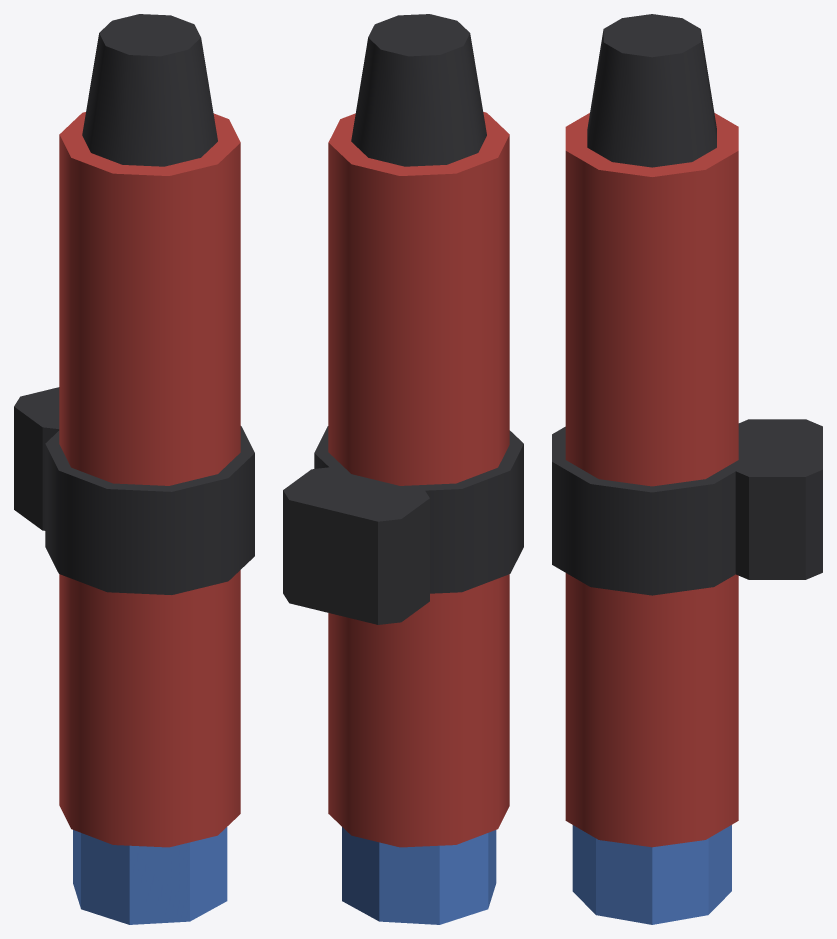
File: linear_lod1.glb
The picture shows the model from 3 angles, left to right: view 1: azimuth 30°, elevation 25°; view 2: azimuth 150°, elevation 25°; view 3: azimuth 270°, elevation 25°; orthographic projection.
Visible parts, largest first — view 1: linear_lod1; view 2: linear_lod1; view 3: linear_lod1.
Boxes of the visible parts, left/top/right/bottom form: linear_lod1: left=14, top=14, right=254, bottom=924; linear_lod1: left=283, top=14, right=523, bottom=924; linear_lod1: left=552, top=14, right=822, bottom=924.
Size of the model in its own units: 0.037 by 0.166 by 0.0476.
